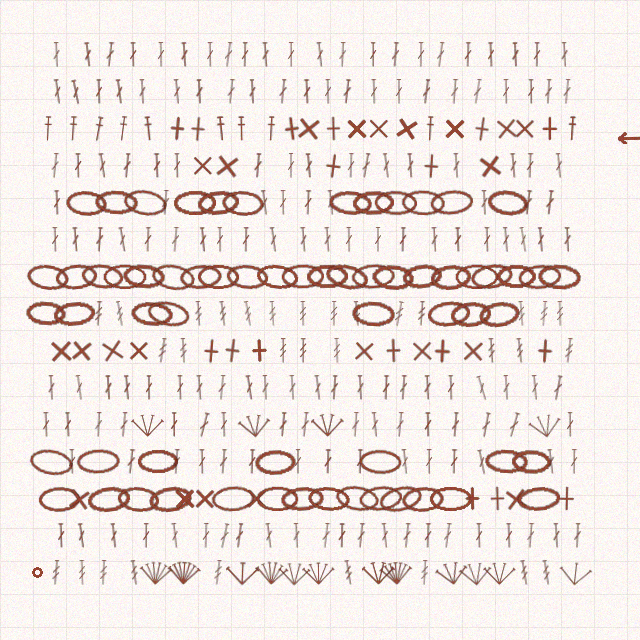chain: (323, 260, 370, 294), (377, 482, 424, 516), (145, 298, 192, 330), (150, 261, 196, 293), (28, 446, 74, 478), (122, 187, 168, 218), (469, 261, 515, 292), (334, 483, 380, 514), (147, 484, 193, 514), (25, 262, 70, 292), (255, 262, 300, 292), (477, 299, 522, 329), (86, 484, 131, 514), (429, 188, 474, 217), (54, 262, 99, 291), (426, 299, 471, 328), (358, 484, 403, 513), (486, 188, 530, 217), (80, 262, 124, 291), (517, 263, 562, 291), (516, 485, 561, 513), (401, 262, 444, 291), (196, 189, 240, 217), (221, 189, 265, 217), (328, 189, 372, 217), (225, 263, 269, 291), (429, 263, 473, 291), (52, 300, 96, 328), (449, 300, 493, 328), (116, 485, 160, 513), (280, 485, 324, 513), (307, 485, 351, 513), (401, 485, 445, 513), (65, 189, 108, 217), (179, 263, 222, 291), (371, 263, 414, 291), (130, 300, 173, 328), (94, 189, 138, 216), (401, 189, 445, 216), (351, 263, 395, 290), (537, 263, 581, 290), (351, 300, 395, 327), (76, 448, 120, 475), (484, 448, 528, 475), (211, 485, 255, 512), (122, 263, 165, 290), (25, 300, 67, 327), (374, 190, 417, 216), (254, 449, 297, 475), (359, 449, 402, 475), (103, 264, 147, 289), (352, 190, 394, 216), (38, 486, 80, 512), (173, 190, 216, 215), (197, 264, 240, 289), (281, 264, 324, 289), (455, 264, 498, 289), (256, 486, 299, 511), (429, 486, 472, 511), (511, 449, 552, 475), (306, 264, 348, 289), (137, 449, 179, 474), (496, 264, 537, 289)
double: (475, 375, 489, 401), (197, 412, 211, 438), (507, 412, 521, 438), (218, 523, 231, 549), (70, 79, 82, 105), (552, 375, 564, 401), (480, 412, 492, 438), (476, 449, 488, 475), (360, 153, 372, 178), (223, 42, 234, 67), (435, 42, 446, 67), (52, 79, 63, 104), (114, 79, 125, 104), (421, 79, 432, 104), (472, 79, 483, 104), (97, 153, 108, 178), (381, 153, 392, 178), (259, 190, 270, 215), (117, 227, 128, 252), (268, 227, 279, 252), (518, 227, 529, 252), (74, 375, 85, 400), (244, 375, 255, 400), (76, 523, 87, 548), (234, 523, 245, 548), (442, 523, 453, 548), (83, 42, 93, 67), (105, 42, 115, 67), (315, 42, 325, 67), (172, 79, 182, 104), (226, 79, 236, 104), (278, 79, 288, 104), (342, 79, 352, 104), (562, 79, 572, 104), (50, 153, 60, 178), (122, 153, 132, 178), (253, 153, 263, 178), (304, 153, 314, 178), (554, 153, 564, 178), (326, 190, 336, 215), (523, 190, 533, 215), (545, 190, 555, 215), (198, 227, 208, 252), (501, 227, 511, 252), (536, 227, 546, 252), (122, 375, 132, 400), (217, 375, 227, 400), (313, 375, 323, 400), (530, 375, 540, 400), (119, 412, 129, 437), (278, 412, 288, 437), (300, 412, 310, 437), (370, 412, 380, 437), (395, 412, 405, 437), (126, 449, 136, 474), (400, 449, 410, 474), (546, 449, 556, 474), (109, 523, 119, 548), (170, 523, 180, 548), (264, 523, 274, 548), (321, 523, 331, 548), (356, 523, 366, 548), (380, 523, 390, 548), (402, 523, 412, 548), (52, 42, 61, 67), (180, 42, 189, 67), (261, 42, 270, 67), (338, 42, 347, 67), (391, 42, 400, 67), (511, 42, 520, 67), (560, 42, 569, 67), (138, 79, 147, 104), (195, 79, 204, 104), (248, 79, 257, 104), (450, 79, 459, 104), (544, 79, 553, 104), (406, 153, 415, 178), (452, 153, 461, 178), (509, 153, 518, 178), (161, 190, 170, 215), (480, 190, 489, 215), (71, 227, 80, 252), (95, 227, 104, 252), (171, 227, 180, 252), (299, 227, 308, 252), (323, 227, 332, 252), (430, 227, 439, 252), (563, 227, 572, 252), (47, 375, 56, 400), (104, 375, 113, 400), (195, 375, 204, 400), (261, 375, 270, 400), (288, 375, 297, 400), (330, 375, 339, 400), (356, 375, 365, 400), (399, 375, 408, 400), (423, 375, 432, 400), (502, 375, 511, 400), (94, 412, 103, 437), (351, 412, 360, 437), (451, 412, 460, 437), (172, 449, 181, 474), (219, 449, 228, 474), (292, 523, 301, 548), (526, 523, 535, 548), (552, 523, 561, 548), (573, 523, 582, 548), (129, 42, 137, 67), (157, 42, 165, 67), (206, 42, 214, 67), (241, 42, 249, 67), (287, 42, 295, 67), (369, 42, 377, 67), (417, 42, 425, 67), (464, 42, 472, 67), (487, 42, 495, 67), (533, 42, 541, 67), (95, 79, 103, 104), (303, 79, 311, 104), (324, 79, 332, 104), (370, 79, 378, 104), (395, 79, 403, 104), (502, 79, 510, 104), (527, 79, 535, 104), (74, 153, 82, 178), (153, 153, 161, 178), (173, 153, 181, 178), (287, 153, 295, 178), (347, 153, 355, 178), (526, 153, 534, 178), (53, 190, 61, 215), (279, 190, 287, 215), (304, 190, 312, 215), (51, 227, 59, 252), (144, 227, 152, 252), (216, 227, 224, 252), (242, 227, 250, 252), (345, 227, 353, 252), (374, 227, 382, 252), (399, 227, 407, 252), (454, 227, 462, 252), (483, 227, 491, 252), (145, 375, 153, 400), (176, 375, 184, 400), (382, 375, 390, 400), (447, 375, 455, 400), (42, 412, 50, 437), (64, 412, 72, 437), (170, 412, 178, 437), (220, 412, 228, 437), (424, 412, 432, 437), (566, 412, 574, 437), (68, 449, 76, 474), (198, 449, 206, 474), (248, 449, 256, 474), (294, 449, 302, 474), (324, 449, 332, 474), (356, 449, 364, 474), (425, 449, 433, 474), (450, 449, 458, 474), (570, 449, 578, 474), (57, 523, 65, 548), (142, 523, 150, 548), (202, 523, 210, 548), (338, 523, 346, 548), (424, 523, 432, 548), (475, 523, 483, 548), (505, 523, 513, 548)
fan: (527, 410, 563, 440), (434, 558, 470, 587), (237, 411, 272, 439), (458, 559, 493, 587), (558, 559, 593, 587), (139, 559, 173, 586), (167, 559, 201, 586), (255, 559, 289, 586), (379, 559, 413, 586), (226, 560, 259, 586), (278, 560, 311, 586), (131, 412, 164, 437), (311, 412, 344, 437), (302, 560, 335, 585), (362, 560, 395, 585), (483, 560, 516, 585)
half_double: (92, 116, 105, 142), (117, 116, 129, 141), (215, 116, 227, 141), (143, 116, 154, 141), (43, 116, 53, 141), (68, 116, 78, 141), (266, 116, 276, 141), (425, 116, 435, 141), (567, 116, 577, 141), (237, 116, 246, 141)
noise: (615, 132, 640, 144), (31, 566, 43, 578)
single: (392, 114, 421, 143), (98, 336, 127, 365), (468, 115, 496, 143), (213, 152, 241, 180), (319, 152, 347, 180), (476, 152, 504, 180), (65, 485, 93, 513), (502, 485, 530, 513), (164, 115, 191, 142), (278, 115, 305, 142), (295, 115, 322, 142), (493, 115, 520, 142), (68, 337, 95, 364), (219, 337, 246, 364), (185, 116, 211, 142), (418, 153, 444, 179), (48, 338, 74, 364), (198, 338, 224, 364), (351, 338, 377, 364), (409, 338, 435, 364), (429, 338, 455, 364), (460, 338, 486, 364), (532, 338, 558, 364), (321, 116, 346, 141), (344, 116, 369, 141), (366, 116, 391, 141), (442, 116, 467, 141), (512, 116, 537, 141), (537, 116, 562, 141), (190, 153, 215, 178), (126, 338, 151, 363), (247, 338, 272, 363), (381, 338, 406, 363), (172, 486, 197, 511), (192, 486, 217, 511), (244, 486, 269, 511), (460, 486, 485, 511), (485, 486, 510, 511), (554, 486, 579, 511)
treble: (393, 301, 405, 327), (114, 301, 126, 326), (242, 301, 254, 326), (157, 338, 168, 363), (129, 560, 140, 585), (343, 560, 354, 585), (519, 560, 530, 585), (541, 560, 552, 585), (218, 301, 228, 326), (352, 301, 362, 326), (539, 301, 549, 326), (515, 338, 525, 363), (564, 338, 574, 363), (51, 560, 61, 585), (213, 560, 223, 585), (94, 301, 103, 326), (194, 301, 203, 326), (268, 301, 277, 326), (417, 301, 426, 326), (517, 301, 526, 326), (179, 338, 188, 363), (487, 338, 496, 363), (99, 560, 108, 585), (420, 560, 429, 585), (299, 301, 307, 326), (330, 301, 338, 326), (556, 301, 564, 326), (279, 338, 287, 363), (299, 338, 307, 363), (333, 338, 341, 363), (78, 560, 86, 585)
